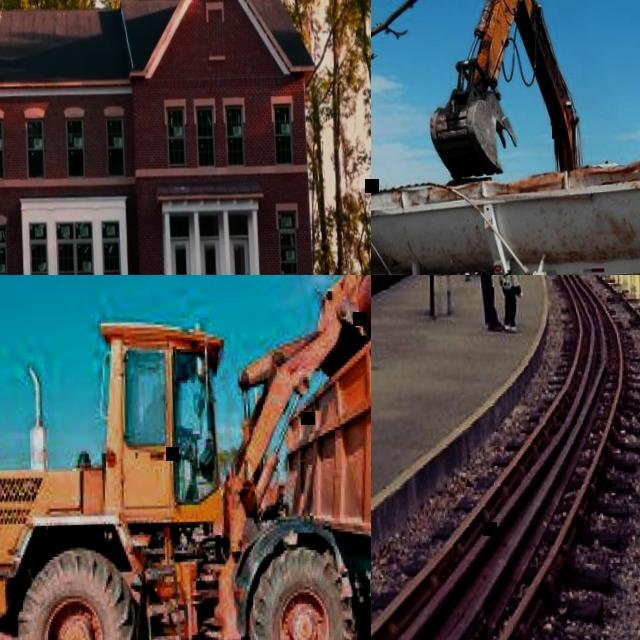NO-Safety Vest: (501, 275, 518, 289)
Person: (144, 382, 189, 447), (472, 275, 522, 331), (497, 275, 523, 331)
machinery: (0, 275, 371, 640), (423, 0, 640, 275), (371, 136, 640, 275), (275, 275, 371, 640)
